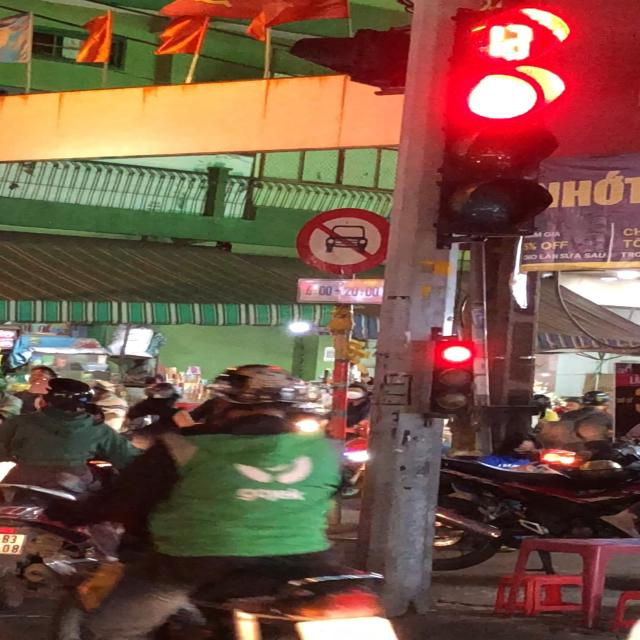Bien bao cam xe oto: (296, 205, 395, 278)
